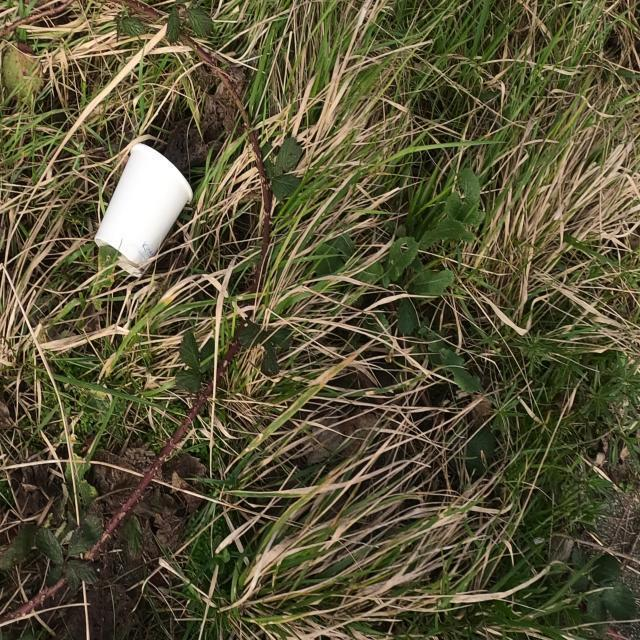Cup: (92, 140, 194, 280)
